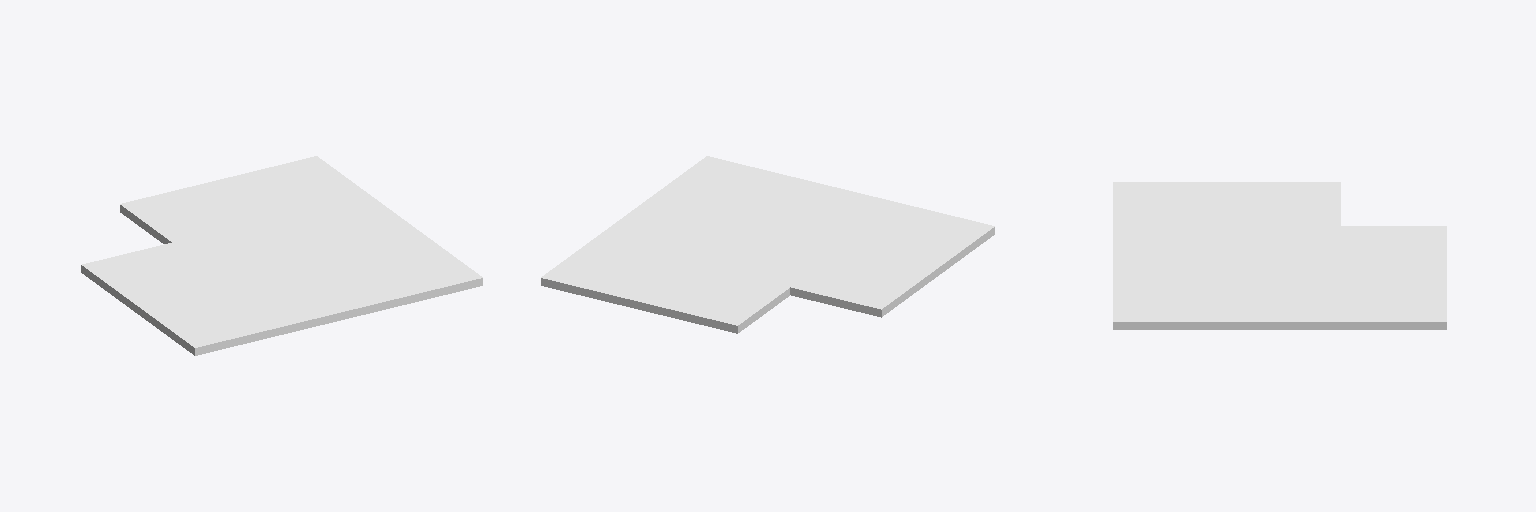
File: CornerRoadsGrey.obj
3 renders of one model, left to right at view 1: azimuth 30°, elevation 25°; view 2: azimuth 150°, elevation 25°; view 3: azimuth 270°, elevation 25°, orthographic.
Bounding box in the file's own units: 38 × 1 × 38.